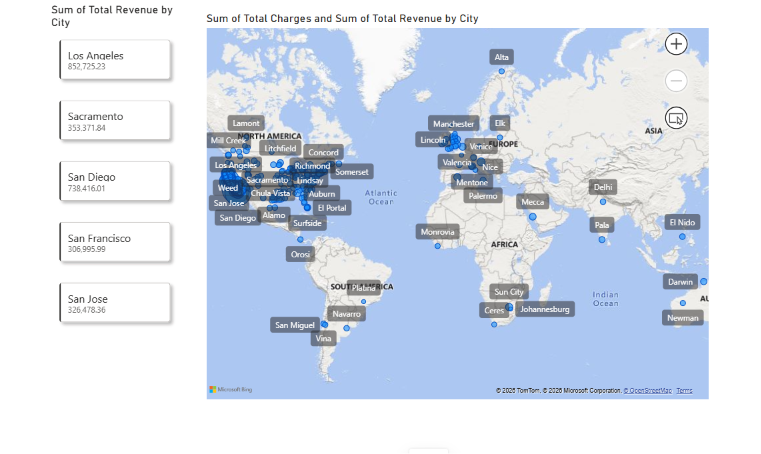

What the dashboard file says about the page in this screenshot:
{"tool":"powerbi","page":{"name":"map","canvas":[1280,720],"ordinal":4},"visuals":[{"type":"map","fields":{"Category":["telecom_customer_churn.City"],"Size":["Sum(telecom_customer_churn.Total Charges)"]},"box":[407.1,28.6,771.4,591.4],"z":0},{"type":"advancedSlicerVisual","fields":{"Values":["telecom_customer_churn.City"],"Label":["Sum(telecom_customer_churn.Total Revenue)"]},"box":[172.9,15.7,202.9,501.4],"z":1000}]}

Visuals, with their boxes on the page's 1280x720 design canvas (x1, y1, x2, y2). These are canvas units, not pixel positions in the 761x454 screenshot, which may show the page scaled, cropped or inside an application window:
map - telecom_customer_churn.City x Sum(telecom_customer_churn.Total Charges): pyautogui.locateOnScreen(407, 29, 1178, 620)
advancedSlicerVisual - telecom_customer_churn.City x Sum(telecom_customer_churn.Total Revenue): pyautogui.locateOnScreen(173, 16, 376, 517)
